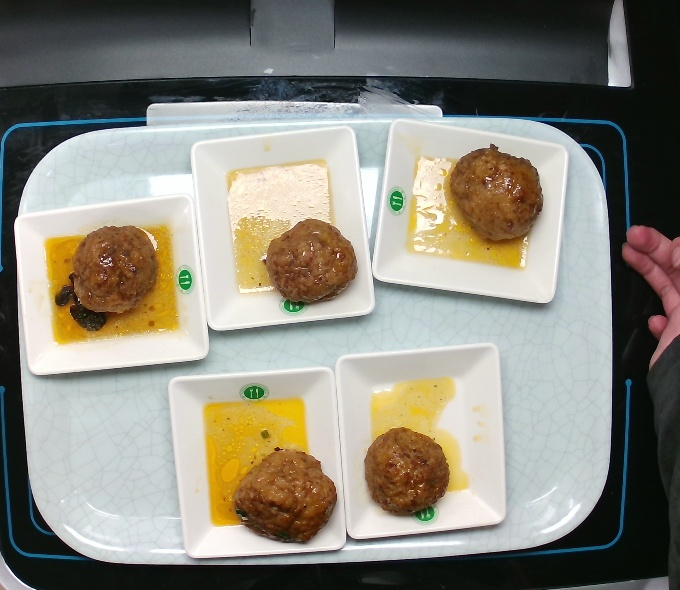wcq-ShiZiTou: (230, 437, 340, 546), (444, 142, 555, 244), (68, 213, 163, 322), (259, 211, 360, 309), (363, 417, 458, 521)
